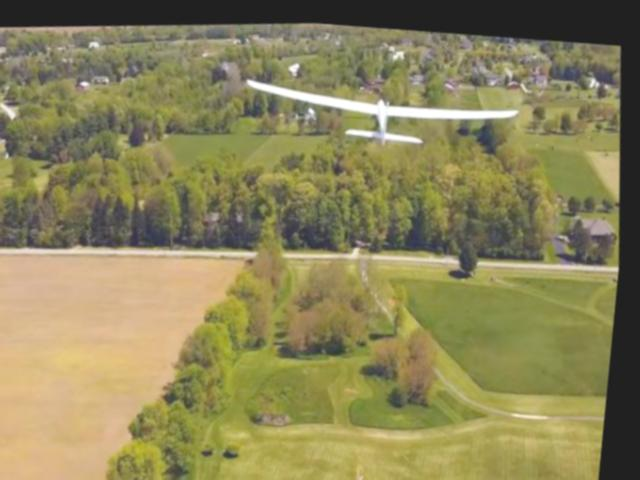iha: (244, 42, 527, 156)
